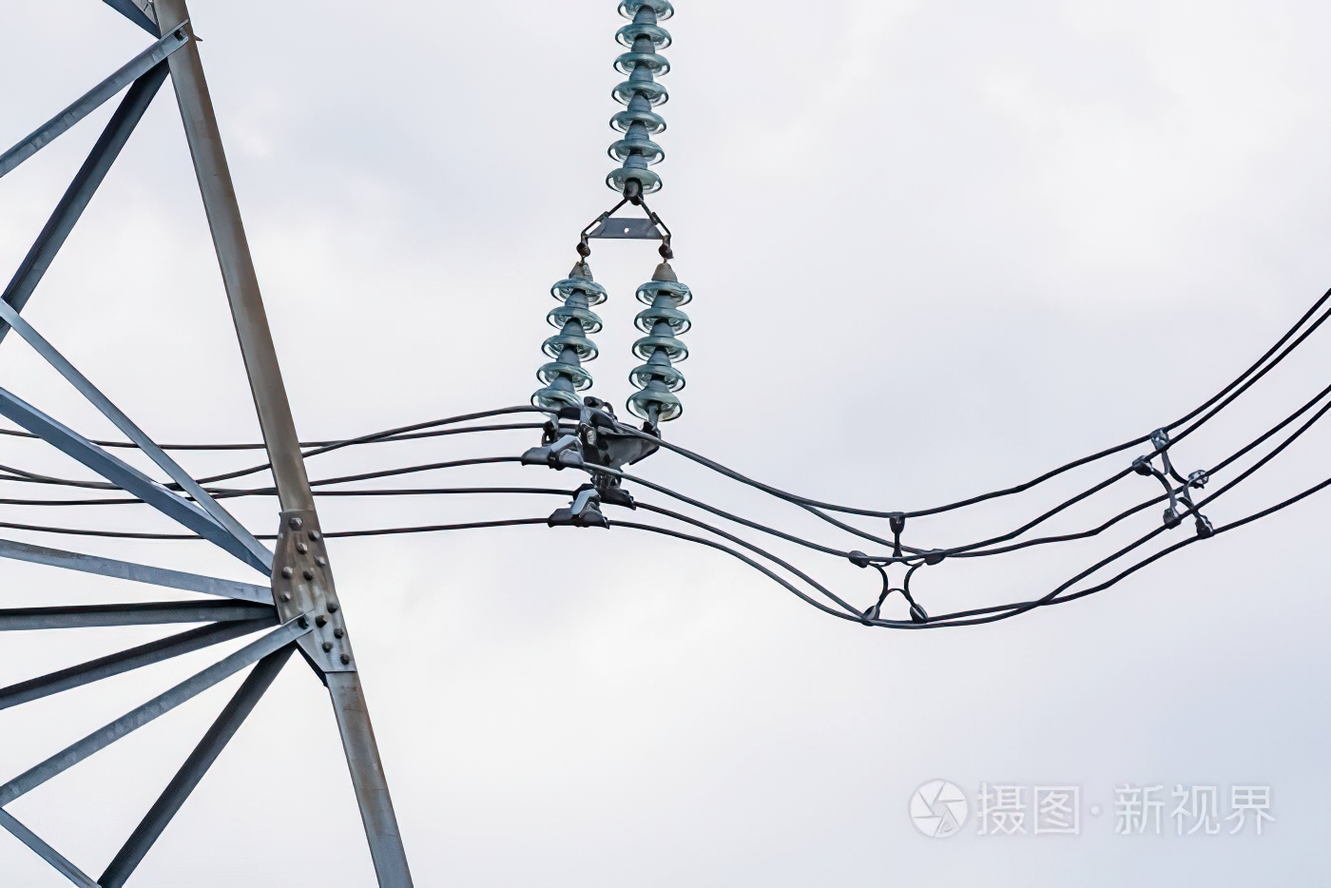insulator: (601, 1, 672, 189), (530, 280, 608, 414), (622, 279, 690, 420)
